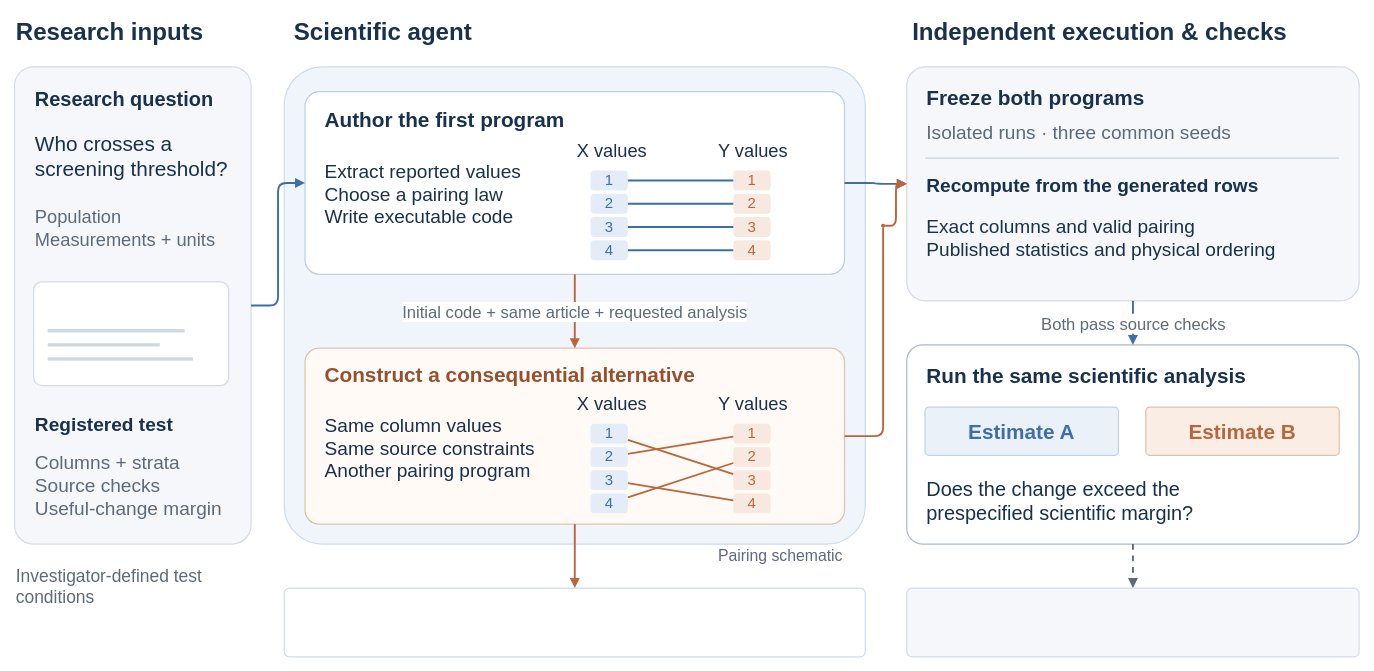
The diagram is 1374 pixels wide and 671 high, and some of its shapes have lost their labels. The shapes that lost their labels are listed below. From the top down, each one's box as (x1, y1, x2, y2) in pixels, then its label:
(33, 281, 229, 386): Original article
(283, 587, 866, 657): Authored programs + provenance Source values, derivations and assumptions
(906, 587, 1359, 657): Measured-data validation Same estimator after model freeze
